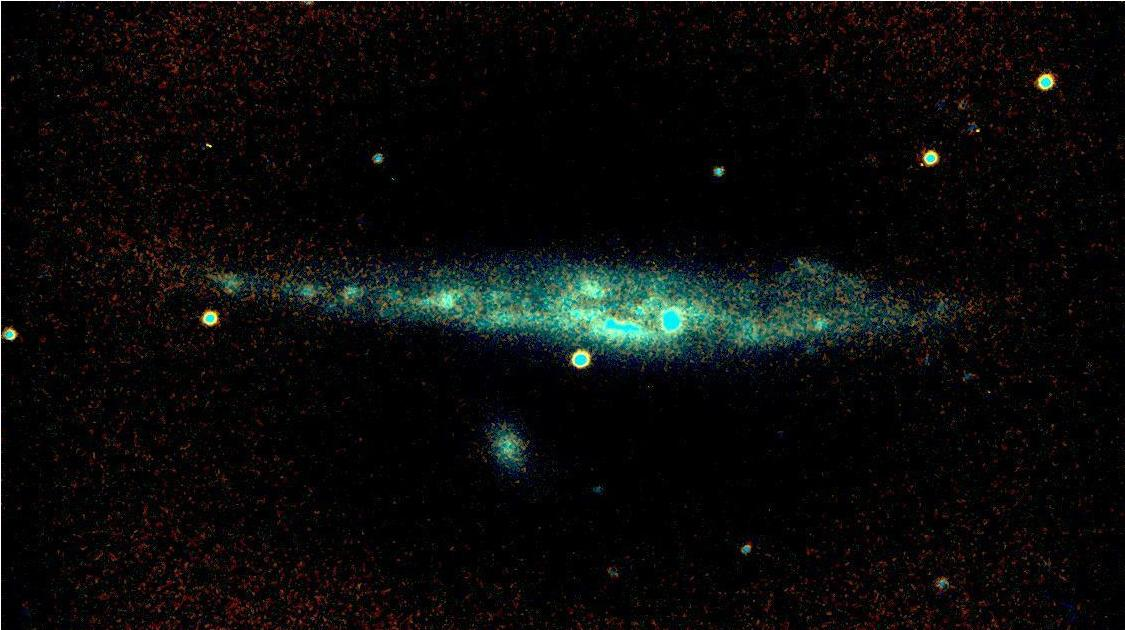star: (195, 131, 225, 161)
